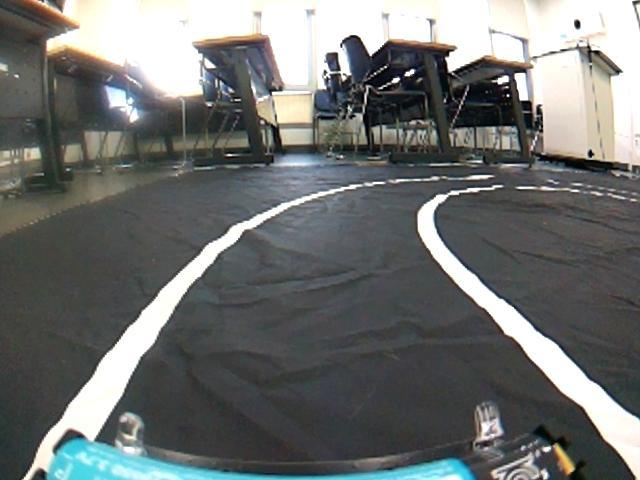straight: (4, 220, 640, 480)
